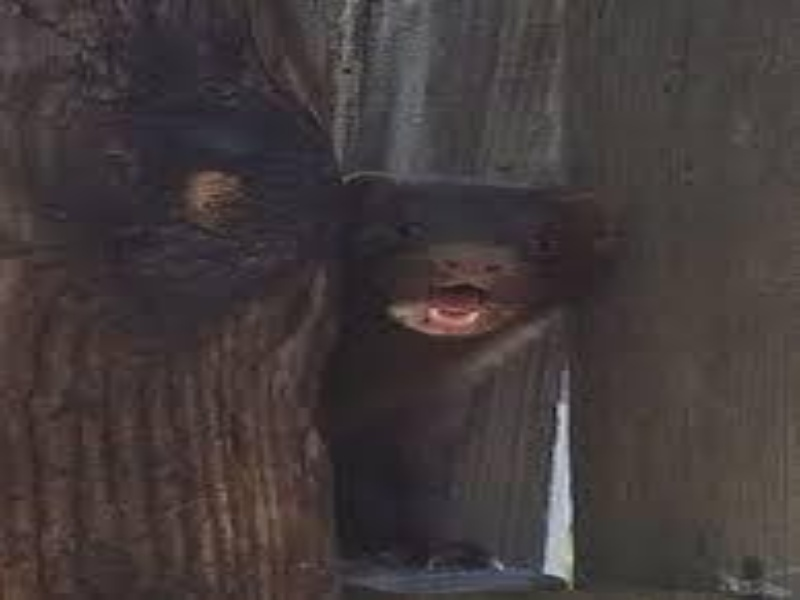minkish: (297, 175, 619, 567)
